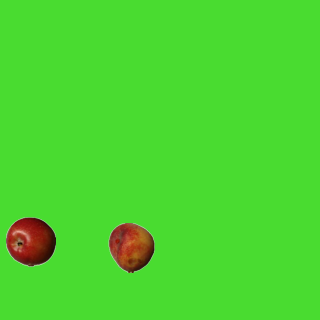Apple Braeburn: (5, 216, 55, 266)
Peach: (106, 222, 156, 272)
